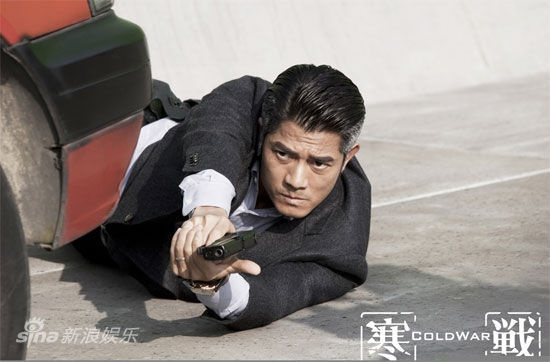falling: (93, 55, 385, 333)
